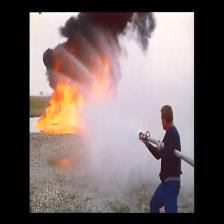fire: (41, 62, 94, 141)
